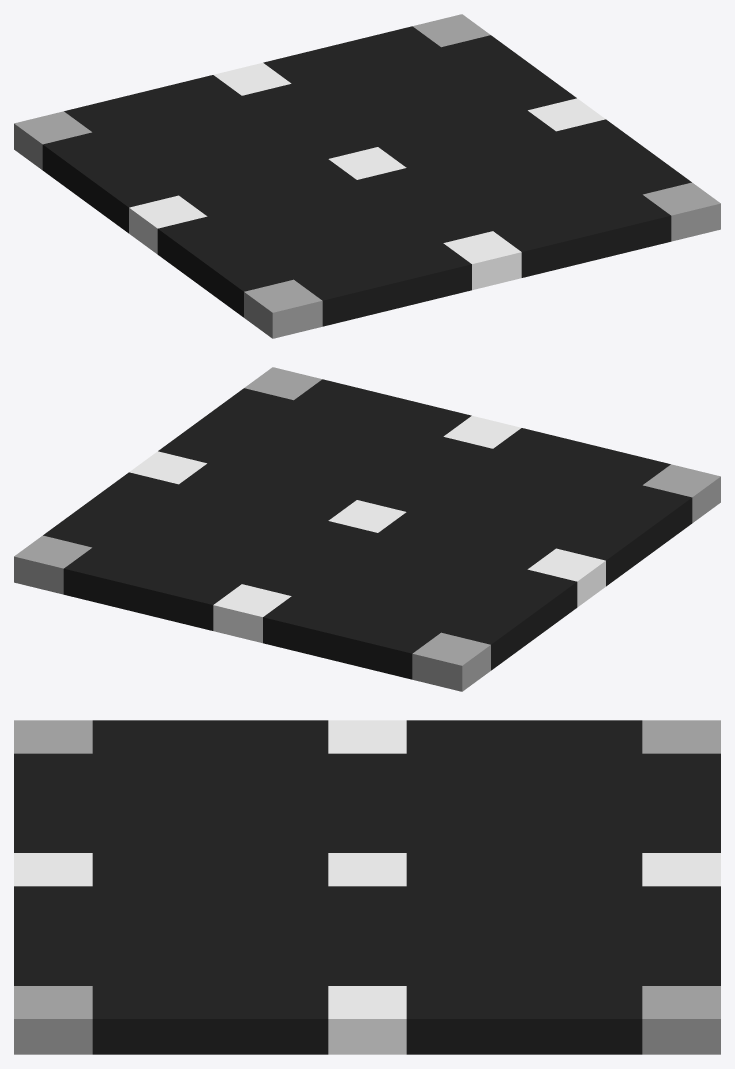
File: road_4.obj
3 views of the same model, one above another, from view 1: azimuth 30°, elevation 25°; view 2: azimuth 150°, elevation 25°; view 3: azimuth 270°, elevation 25° (orthographic). The views are drawn at different scales.
Bounding box in the file's own units: 1.8 × 0.1 × 1.8.
1 material, 1 textured.
